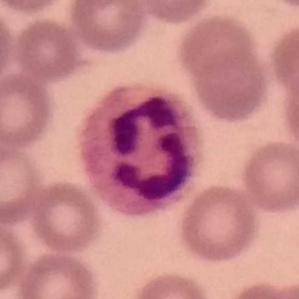Neutrophil: (71, 74, 202, 224)
RBC: (178, 12, 274, 125), (175, 182, 263, 265), (28, 178, 105, 256), (11, 16, 83, 82), (239, 138, 299, 215), (67, 0, 149, 56), (0, 70, 56, 150), (16, 249, 102, 299), (0, 140, 45, 224), (127, 268, 217, 299), (266, 21, 299, 102), (132, 0, 217, 26), (0, 220, 28, 296), (279, 64, 299, 152), (222, 277, 297, 299), (0, 6, 17, 87), (0, 0, 68, 17)
